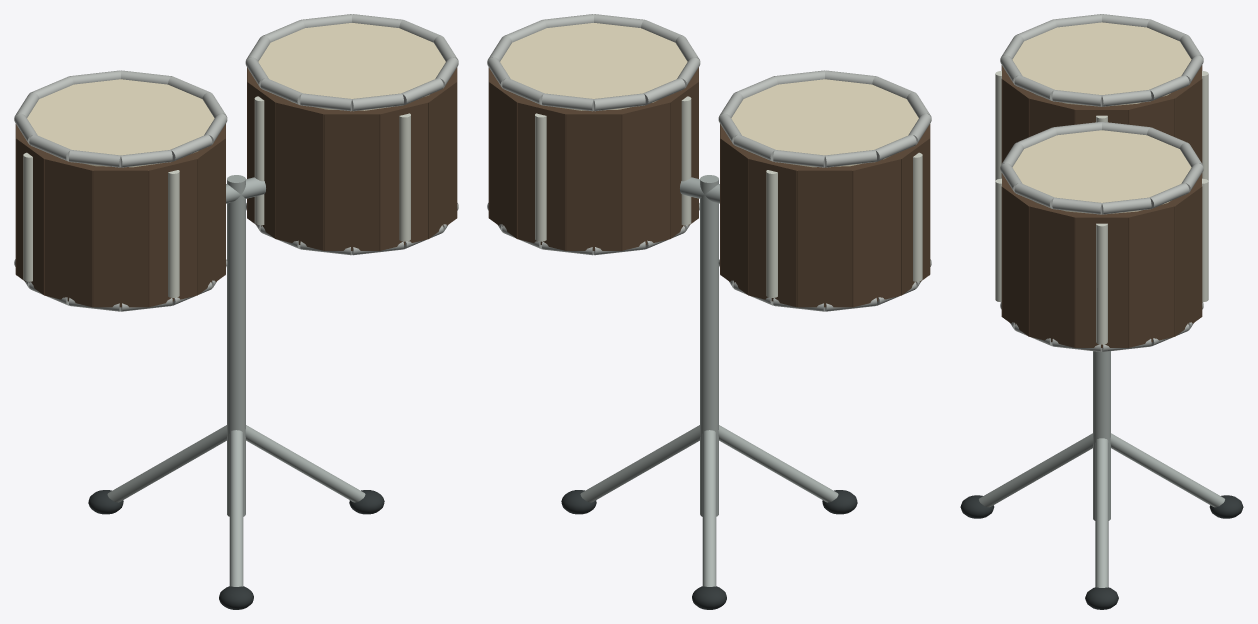
File: CMU3DMaterialLeisureTomDrumsCloud.glb
The picture shows the model from 3 angles, left to right: view 1: azimuth 30°, elevation 25°; view 2: azimuth 150°, elevation 25°; view 3: azimuth 270°, elevation 25°; orthographic projection. The views are drawn at different scales.
Visible parts, largest first — view 1: tom 0 cream drum skin, tom 1 cream drum skin, tom 0 separate curved shell stave 8, tom 1 separate curved shell stave 8, tom 1 separate curved shell stave 7, tom 0 separate curved shell stave 7, tom 1 separate curved shell stave 9, tom 0 separate curved shell stave 9, drum stand central tube, tom 1 separate curved shell stave 10, tom 0 separate curved shell stave 10, tom 0 separate curved shell stave 6 (+15 smaller); view 2: tom 0 cream drum skin, tom 1 cream drum skin, tom 0 separate curved shell stave 4, tom 1 separate curved shell stave 4, tom 0 separate curved shell stave 5, tom 1 separate curved shell stave 5, tom 0 separate curved shell stave 3, tom 1 separate curved shell stave 3, drum stand central tube, tom 1 separate curved shell stave 2, tom 0 separate curved shell stave 2, tom 0 separate curved shell stave 6 (+15 smaller); view 3: tom 0 cream drum skin, tom 1 cream drum skin, tom 1 separate curved shell stave 1, tom 1 separate curved shell stave 11, tom 1 separate curved shell stave 0, tom 1 separate curved shell stave 2, tom 1 separate curved shell stave 10, tripod leg 0, drum stand central tube, tom 0 separate curved shell stave 2, tom 0 separate curved shell stave 10, tripod leg 1 (+24 smaller).
Part boxes in pixels (bbox=[...]): tom 0 cream drum skin: bbox=[27, 79, 214, 167]; tom 1 cream drum skin: bbox=[258, 23, 445, 110]; tom 0 separate curved shell stave 8: bbox=[92, 165, 149, 307]; tom 1 separate curved shell stave 8: bbox=[323, 108, 380, 250]; tom 1 separate curved shell stave 7: bbox=[275, 97, 330, 250]; tom 0 separate curved shell stave 7: bbox=[43, 155, 98, 307]; tom 1 separate curved shell stave 9: bbox=[374, 97, 429, 250]; tom 0 separate curved shell stave 9: bbox=[143, 154, 197, 307]; drum stand central tube: bbox=[227, 175, 245, 516]; tom 1 separate curved shell stave 10: bbox=[418, 80, 457, 239]; tom 0 separate curved shell stave 10: bbox=[188, 136, 225, 295]; tom 0 separate curved shell stave 6: bbox=[15, 136, 55, 295]; tom 0 cream drum skin: bbox=[731, 79, 918, 167]; tom 1 cream drum skin: bbox=[500, 23, 687, 110]; tom 0 separate curved shell stave 4: bbox=[796, 165, 853, 307]; tom 1 separate curved shell stave 4: bbox=[565, 109, 622, 250]; tom 0 separate curved shell stave 5: bbox=[847, 154, 902, 307]; tom 1 separate curved shell stave 5: bbox=[621, 97, 670, 250]; tom 0 separate curved shell stave 3: bbox=[748, 154, 803, 307]; tom 1 separate curved shell stave 3: bbox=[516, 98, 572, 250]; drum stand central tube: bbox=[700, 175, 718, 516]; tom 1 separate curved shell stave 2: bbox=[488, 80, 527, 239]; tom 0 separate curved shell stave 2: bbox=[720, 138, 759, 295]; tom 0 separate curved shell stave 6: bbox=[890, 136, 930, 295]; tom 0 cream drum skin: bbox=[1012, 22, 1191, 105]; tom 1 cream drum skin: bbox=[1012, 130, 1191, 213]; tom 1 separate curved shell stave 1: bbox=[1122, 202, 1175, 347]; tom 1 separate curved shell stave 11: bbox=[1028, 202, 1081, 347]; tom 1 separate curved shell stave 0: bbox=[1074, 212, 1129, 347]; tom 1 separate curved shell stave 2: bbox=[1167, 184, 1202, 336]; tom 1 separate curved shell stave 10: bbox=[1001, 185, 1038, 336]; tripod leg 0: bbox=[1095, 438, 1108, 587]; drum stand central tube: bbox=[1093, 351, 1110, 520]; tom 0 separate curved shell stave 2: bbox=[1165, 79, 1202, 163]; tom 0 separate curved shell stave 10: bbox=[1001, 79, 1038, 163]; tripod leg 1: bbox=[1110, 433, 1224, 507].
Size of the model in its own units: 0.716 by 0.739 by 0.4331.
